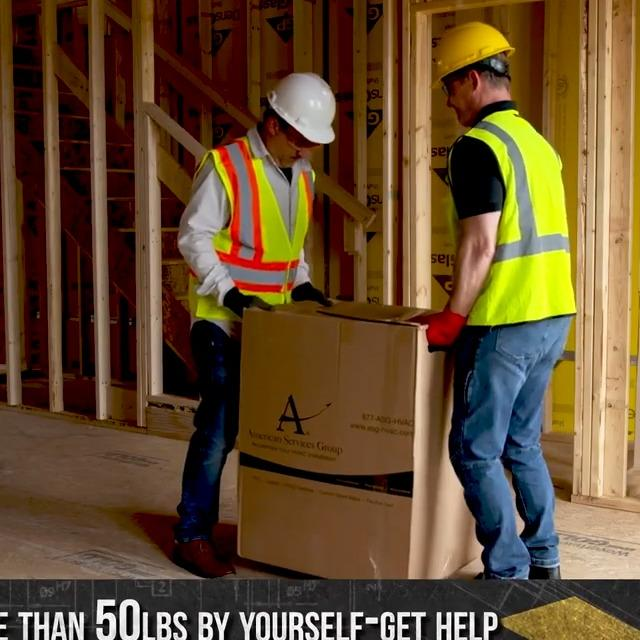Gloves: (420, 311, 465, 357), (225, 288, 270, 319), (294, 283, 328, 311)
Hardhat: (271, 72, 338, 143), (431, 25, 511, 84)
NO-Mask: (448, 97, 477, 128), (276, 149, 295, 170)
Person: (425, 21, 580, 578), (175, 73, 329, 575)
Safety Vest: (443, 117, 583, 330), (181, 131, 315, 335)
